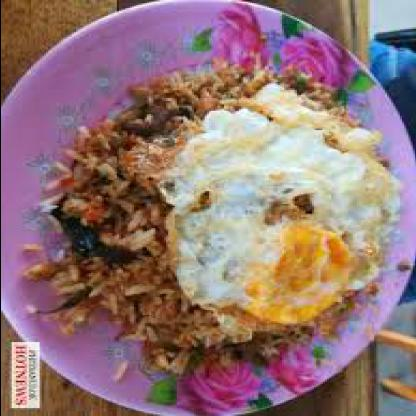Basil Rice: (17, 41, 393, 364)
